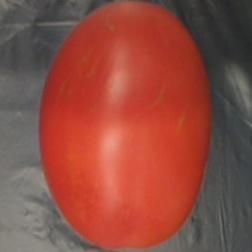unripe: (33, 0, 221, 252)
